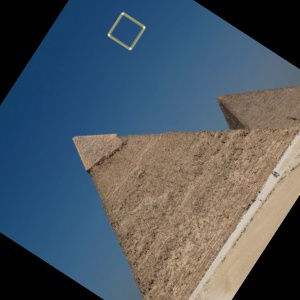square: (106, 11, 146, 51)
